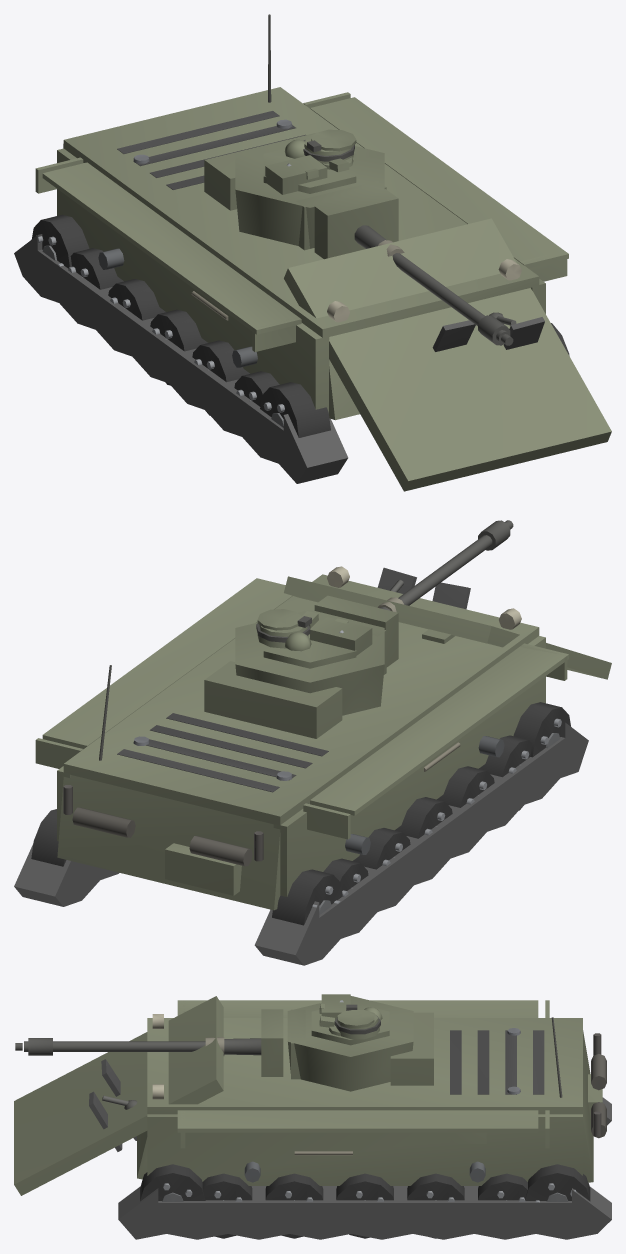
The picture shows the model from 3 angles, top to bottom: view 1: azimuth 30°, elevation 25°; view 2: azimuth 150°, elevation 25°; view 3: azimuth 270°, elevation 25°; orthographic projection. The views are drawn at different scales.
Parts seen in each view (by area): view 1: glacis, hullSide, hullTop, tracks, turretSide, turretRoof, mantlet, barrel, wheel5, wheel6, turretRear, wheel2 (+6 smaller); view 2: hullTop, hullSide, hullRear, tracks, turretSide, glacis, turretRear, turretRoof, wheel6, barrel, mantlet, wheel5 (+6 smaller); view 3: hullSide, hullTop, tracks, glacis, turretSide, turretRoof, barrel, hullRear, turretRear, wheel12, wheel13, mantlet (+7 smaller).
Boxes of the visible parts, <box> form: glacis: <box>284,218,611,491</box>; hullSide: <box>35,92,568,412</box>; hullTop: <box>63,87,539,337</box>; tracks: <box>14,234,348,483</box>; turretSide: <box>235,135,384,248</box>; turretRoof: <box>263,129,356,194</box>; mantlet: <box>314,189,398,259</box>; barrel: <box>354,225,513,345</box>; wheel5: <box>260,382,330,437</box>; wheel6: <box>31,214,89,268</box>; turretRear: <box>204,133,315,210</box>; wheel2: <box>150,309,207,385</box>; hullTop: <box>63,574,539,825</box>; hullSide: <box>35,566,568,896</box>; hullRear: <box>57,665,280,910</box>; tracks: <box>14,721,588,965</box>; turretSide: <box>235,609,384,715</box>; glacis: <box>284,567,611,679</box>; turretRear: <box>204,661,342,738</box>; turretRoof: <box>256,609,372,668</box>; wheel6: <box>272,869,342,925</box>; barrel: <box>377,520,513,612</box>; mantlet: <box>314,595,398,667</box>; wheel5: <box>513,702,570,757</box>; hullSide: <box>147,1000,582,1185</box>; hullTop: <box>147,1018,582,1114</box>; tracks: <box>118,1097,611,1239</box>; glacis: <box>14,996,223,1195</box>; turretSide: <box>287,996,413,1091</box>; turretRoof: <box>311,994,389,1045</box>; barrel: <box>15,1037,261,1055</box>; hullRear: <box>551,1017,606,1182</box>; turretRear: <box>390,1012,433,1085</box>; wheel12: <box>140,1164,205,1201</box>; wheel13: <box>525,1164,590,1202</box>; mantlet: <box>261,1009,283,1076</box>.
Bounding box in the file's own units: 4.18 × 3.02 × 8.24.
